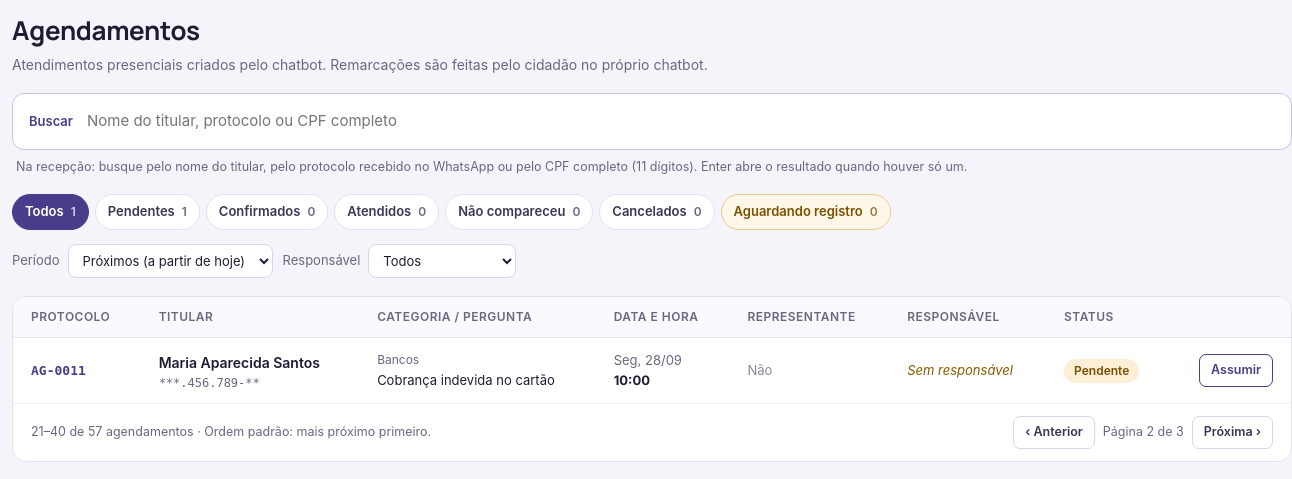
Test case: Appointments.page: volta à página 1 com várias páginas › o período escolhido na página 2 volta à página 1
The width and height of the screenshot is (1292, 479).
Expected: the text "Página 2 de 3" is shown, [1103,423,1184,442]
Select "Todos" in the dropdown labelled "Período" at (170, 261), box [68,244,272,278]
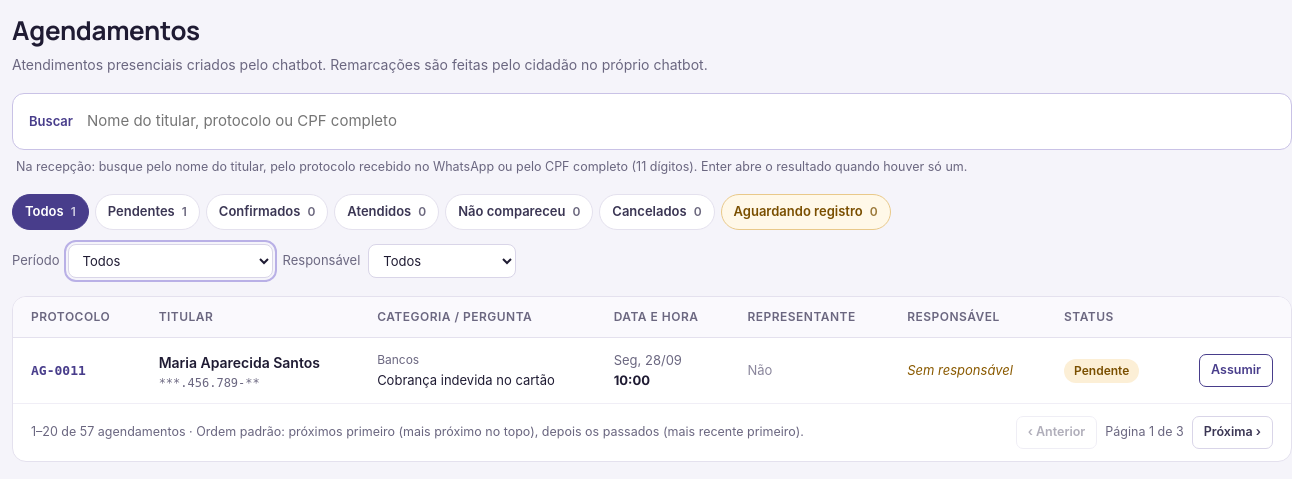
Result: the text "Página 1 de 3" is shown at [1105,423,1184,442]
